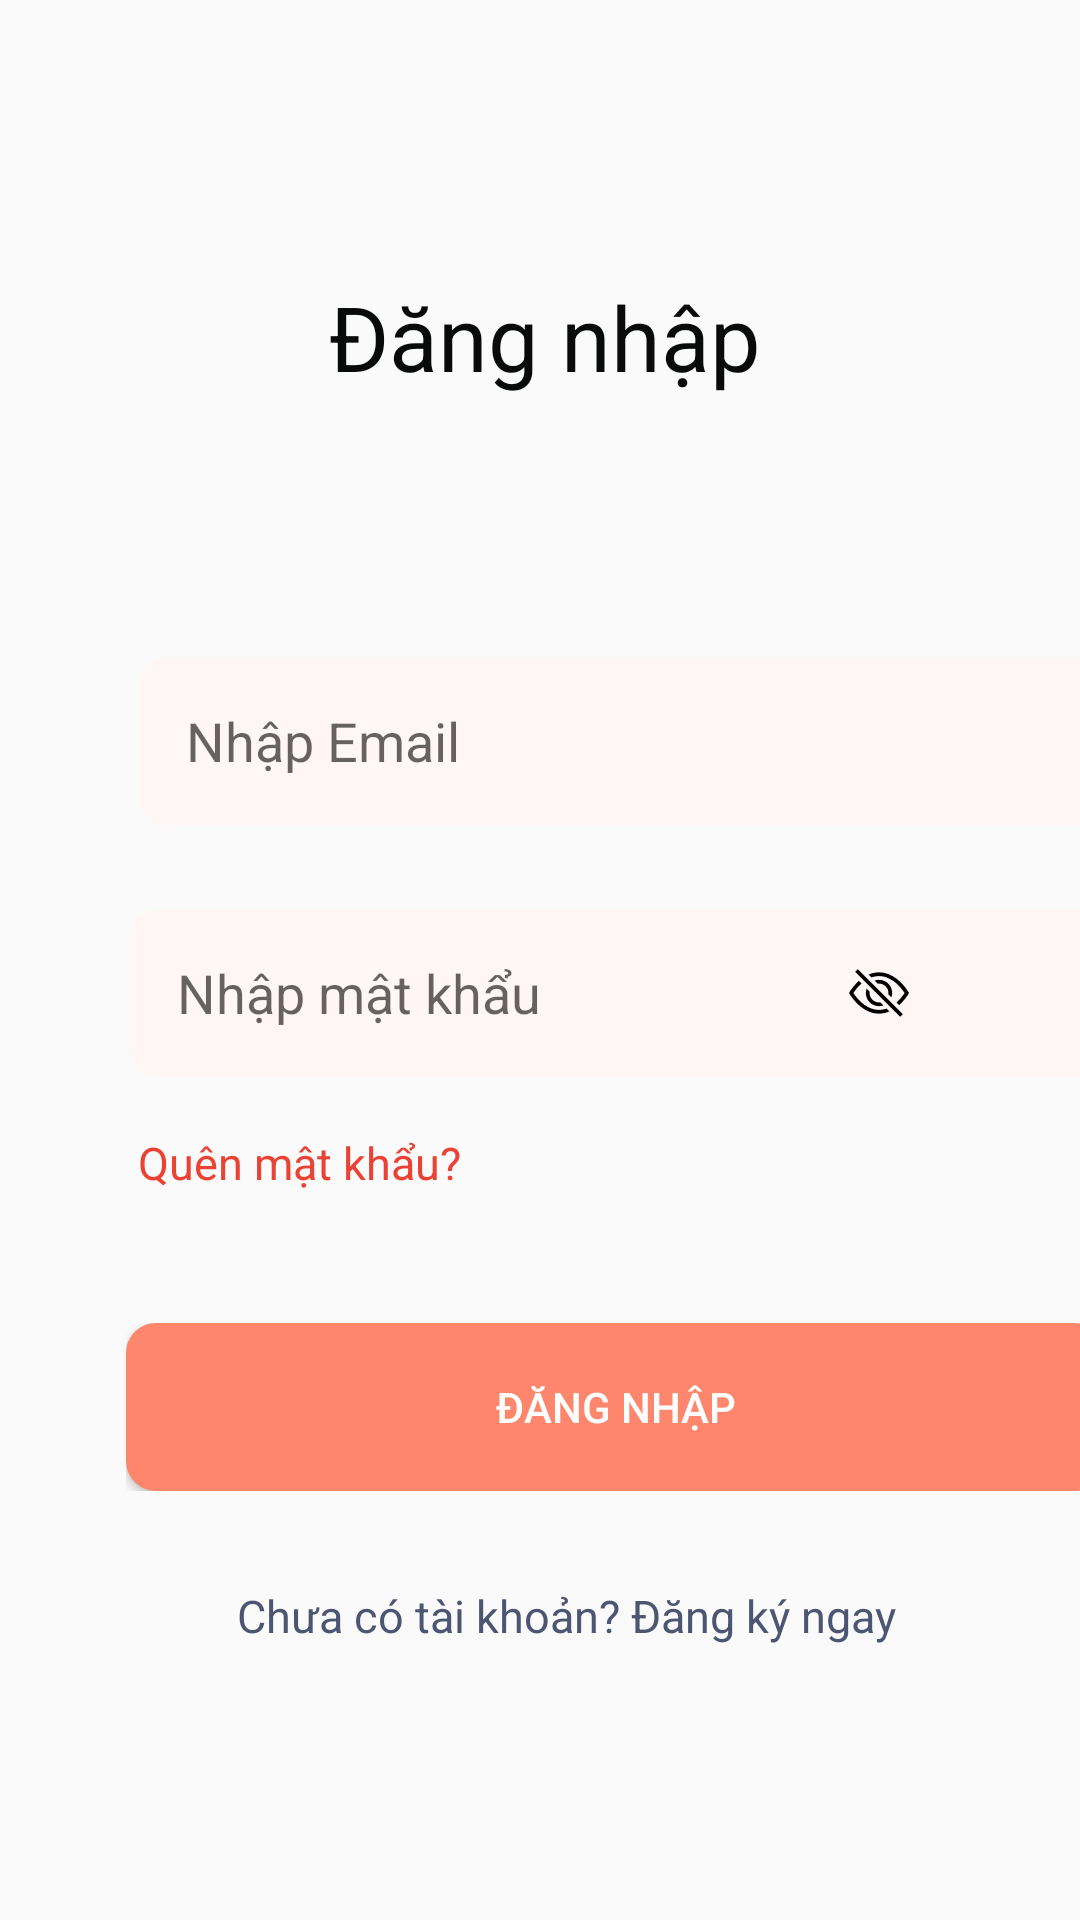

Screen size 1080 x 1920. Icon name, then its center in pixels as (x,y):
eye slash: (879,993)
